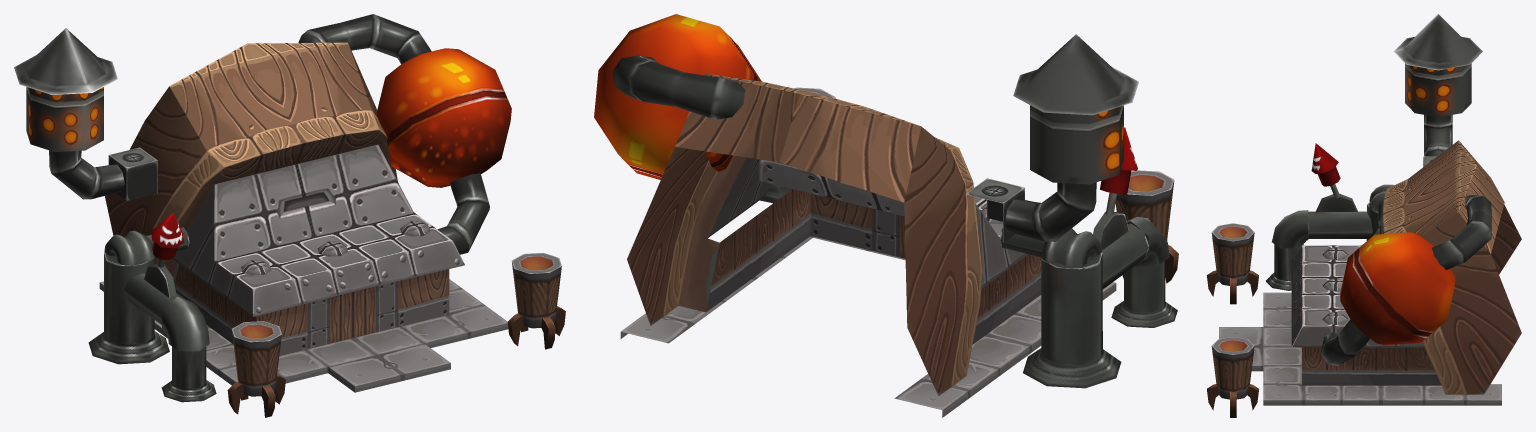
File: The main city_001_LV06.FBX
3 renders of one model, left to right at view 1: azimuth 30°, elevation 25°; view 2: azimuth 150°, elevation 25°; view 3: azimuth 270°, elevation 25°, orthographic. The views are drawn at different scales.
Parts seen in each view (by area): view 1: The main city_001_LV06; view 2: The main city_001_LV06; view 3: The main city_001_LV06.
Part boxes in pixels (x1,y1,x2,y2): The main city_001_LV06: [14, 14, 565, 417]; The main city_001_LV06: [594, 14, 1178, 417]; The main city_001_LV06: [1207, 14, 1521, 417].
Bounding box in the file's own units: 56.97 × 36.4 × 40.76.
